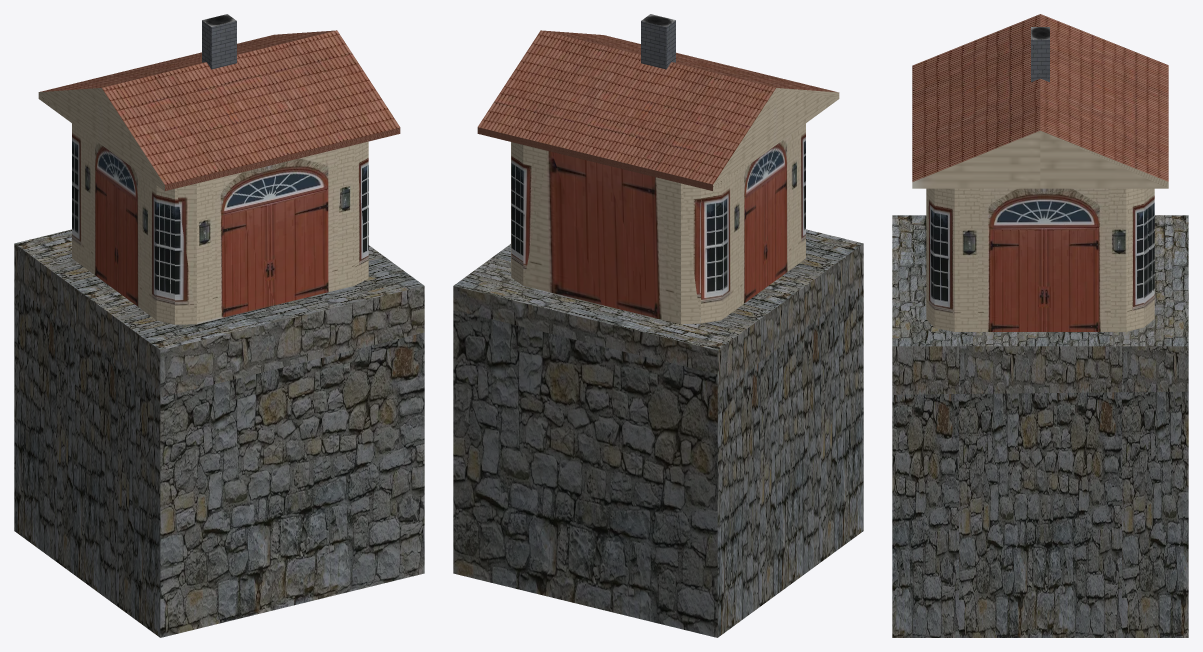
Rendered from blacksmith.glb.
3 views of the same model, side by side, from view 1: azimuth 30°, elevation 25°; view 2: azimuth 150°, elevation 25°; view 3: azimuth 270°, elevation 25° (orthographic).
Parts seen in each view (by area): view 1: Cube.002, Cube, Cube.001, Cube.003; view 2: Cube.002, Cube, Cube.001, Cube.003; view 3: Cube.002, Cube, Cube.001, Cube.003.
Boxes of the visible parts, x1,y1,x2,y2 form: Cube.002: (14,229,424,637); Cube: (38,88,368,324); Cube.001: (40,30,400,190); Cube.003: (202,14,236,69); Cube.002: (453,229,863,637); Cube: (511,88,839,324); Cube.001: (477,30,837,190); Cube.003: (641,14,675,69); Cube.002: (892,215,1188,637); Cube: (912,130,1168,331); Cube.001: (912,14,1168,181); Cube.003: (1031,27,1049,82).
Bounding box in the file's own units: 1.92 × 3.7 × 1.84.
5 materials, 5 textured.
